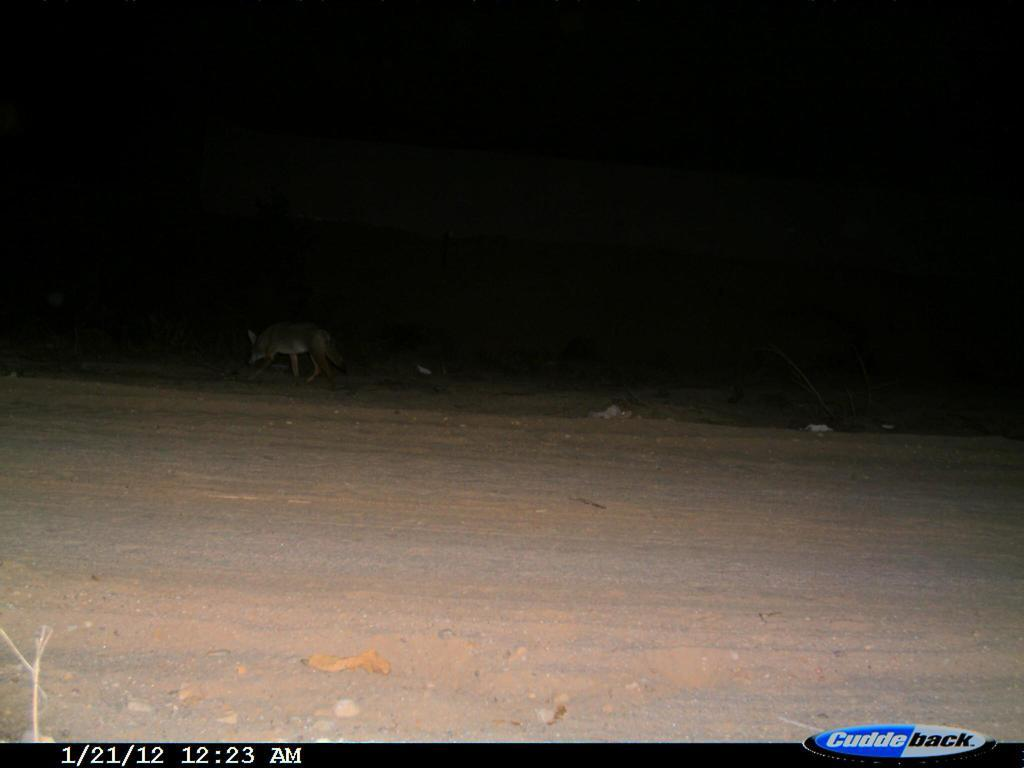coyote: (232, 311, 352, 393)
